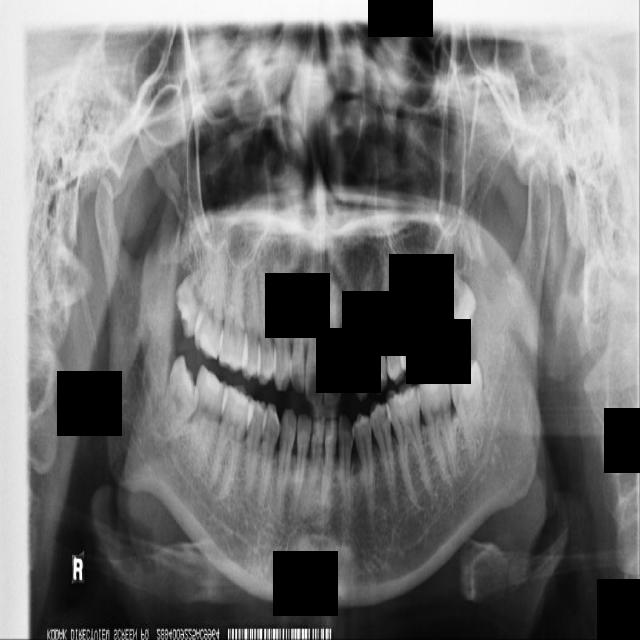3M ESPE Implant: (165, 239, 220, 342)
52: (182, 364, 240, 419), (217, 382, 258, 435), (385, 382, 423, 435), (417, 368, 452, 420)
73: (526, 580, 534, 581)
BioHorizons Implant: (419, 236, 457, 362)
BioLife Implant: (430, 226, 484, 342)
Biomet 3i Implant: (445, 358, 497, 468)
Blue Sky Bio Implant: (413, 368, 462, 482)
Caries: (193, 254, 230, 360)
Implant: (185, 365, 232, 478)
Keystone Dental Implant: (144, 353, 212, 455)
